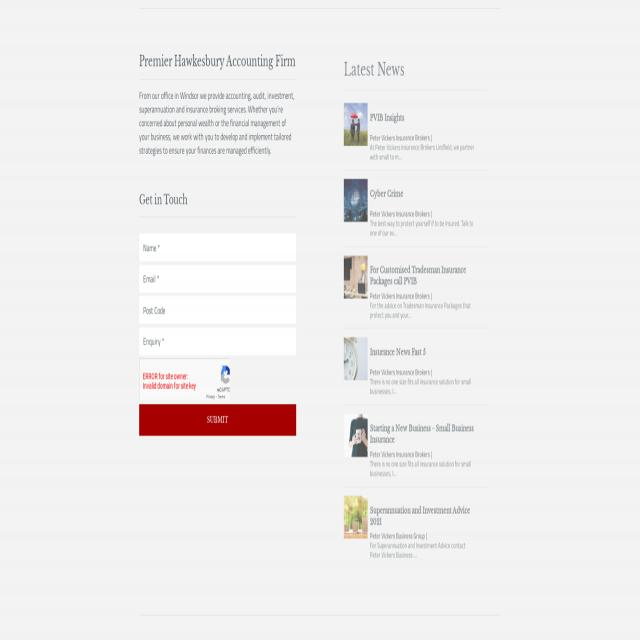button: (139, 359, 296, 401), (140, 405, 296, 435), (344, 104, 368, 148), (344, 178, 368, 222), (344, 256, 368, 300), (344, 338, 368, 382), (344, 414, 368, 457), (344, 495, 368, 538)
field: (140, 296, 296, 324), (140, 234, 296, 261), (140, 265, 296, 292), (140, 328, 296, 354)
